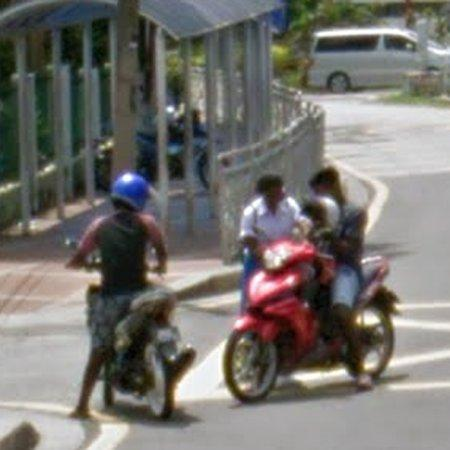motorcycles: (224, 239, 349, 402), (109, 289, 197, 418), (352, 257, 398, 378)
